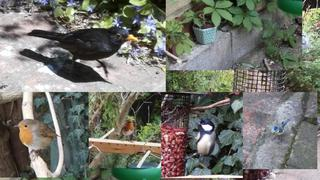blackbird: (27, 27, 139, 82)
blue tit: (271, 119, 291, 144)
great tit: (182, 119, 216, 162)
robin: (14, 119, 62, 161), (118, 119, 134, 142)
